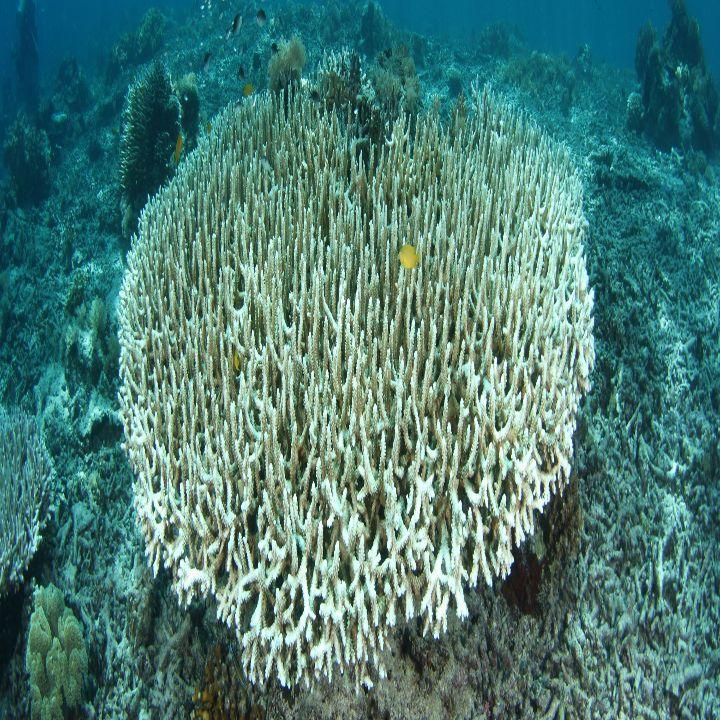Healthy Coral: (110, 81, 610, 677)
